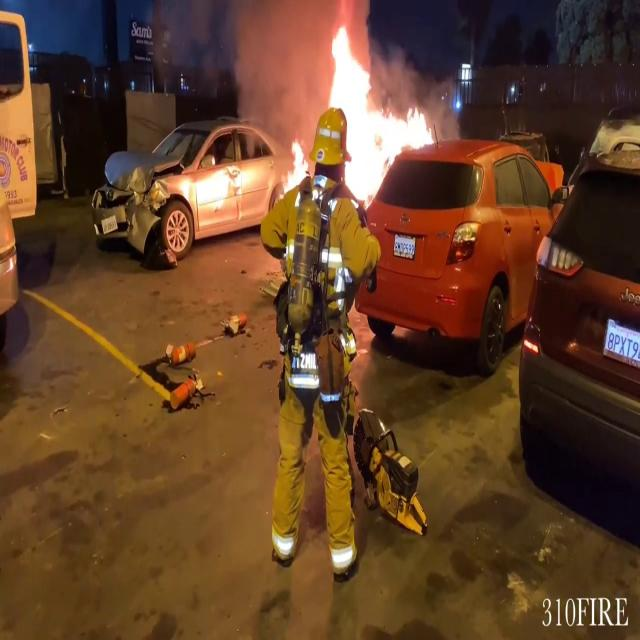Fire: (320, 10, 439, 202)
Smoke: (217, 1, 371, 127)
